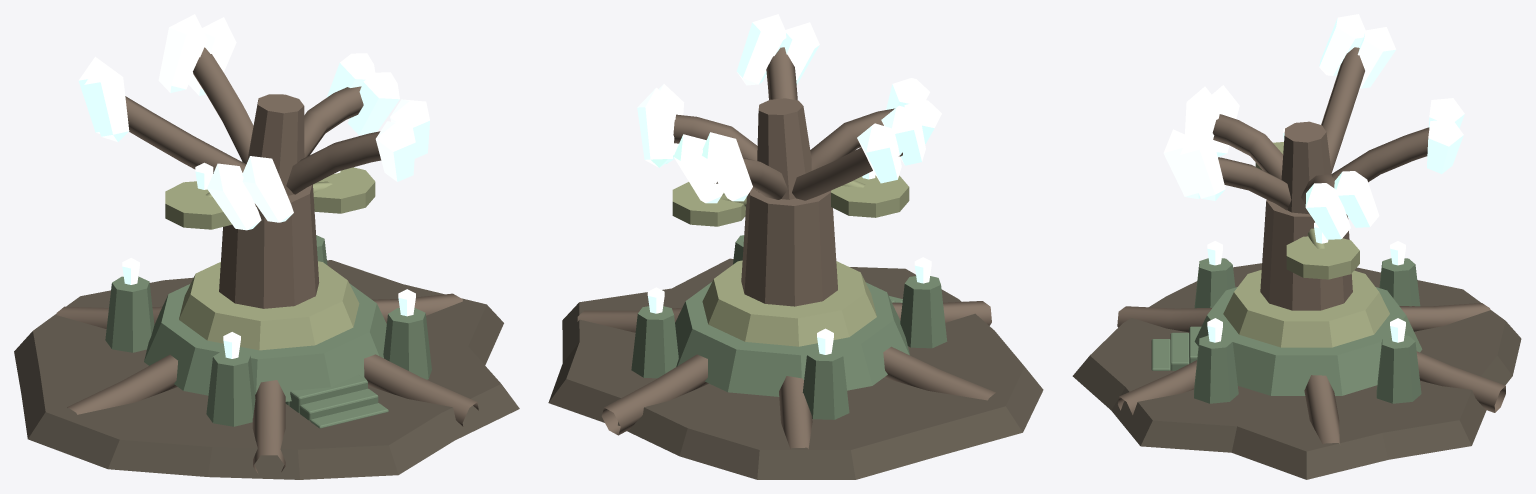
Rendered from ancient-jungle-lod1.glb.
3 renders of one model, left to right at view 1: azimuth 30°, elevation 25°; view 2: azimuth 150°, elevation 25°; view 3: azimuth 270°, elevation 25°, orthographic. The views are drawn at different scales.
Visible parts, largest first — view 1: STONE_TERRAIN_SOCKET, STONE_TEMPLE_TERRACE_LOWER, TRIM_TEMPLE_TERRACE_UPPER, ORGANIC_TRUNK_LOWER, ORGANIC_TRUNK_UPPER, FX_FOLIAGE_BRANCH_2, STONE_ROOT_SHRINE_2, STONE_ROOT_SHRINE_1, ORGANIC_BUTTRESS_ROOT_5, FX_FOLIAGE_BRANCH_4, FX_FOLIAGE_BRANCH_1, ORGANIC_BUTTRESS_ROOT_3 (+19 smaller); view 2: STONE_TERRAIN_SOCKET, STONE_TEMPLE_TERRACE_LOWER, ORGANIC_TRUNK_LOWER, TRIM_TEMPLE_TERRACE_UPPER, ORGANIC_TRUNK_UPPER, ORGANIC_BUTTRESS_ROOT_1, STONE_ROOT_SHRINE_2, STONE_ROOT_SHRINE_0, STONE_ROOT_SHRINE_1, ORGANIC_BUTTRESS_ROOT_3, STONE_CANOPY_PLATFORM_1, FX_FOLIAGE_BLADE_0_1 (+17 smaller); view 3: STONE_TERRAIN_SOCKET, STONE_TEMPLE_TERRACE_LOWER, TRIM_TEMPLE_TERRACE_UPPER, ORGANIC_TRUNK_LOWER, ORGANIC_TRUNK_UPPER, STONE_CANOPY_PLATFORM_0, STONE_ROOT_SHRINE_0, STONE_ROOT_SHRINE_3, FX_FOLIAGE_BRANCH_2, FX_FOLIAGE_BRANCH_1, ORGANIC_BUTTRESS_ROOT_1, FX_FOLIAGE_BRANCH_3 (+19 smaller).
Boxes of the visible parts, x1,y1,x2,y2 form: STONE_TERRAIN_SOCKET: (14, 260, 519, 479); STONE_TEMPLE_TERRACE_LOWER: (144, 283, 386, 401); TRIM_TEMPLE_TERRACE_UPPER: (179, 261, 359, 350); ORGANIC_TRUNK_LOWER: (219, 184, 319, 308); ORGANIC_TRUNK_UPPER: (247, 94, 304, 195); FX_FOLIAGE_BRANCH_2: (125, 96, 246, 173); STONE_ROOT_SHRINE_2: (206, 350, 255, 426); STONE_ROOT_SHRINE_1: (105, 276, 154, 352); ORGANIC_BUTTRESS_ROOT_5: (364, 354, 478, 426); FX_FOLIAGE_BRANCH_4: (286, 131, 381, 194); FX_FOLIAGE_BRANCH_1: (193, 47, 253, 163); ORGANIC_BUTTRESS_ROOT_3: (67, 354, 177, 414); STONE_TERRAIN_SOCKET: (548, 258, 1043, 479); STONE_TEMPLE_TERRACE_LOWER: (675, 282, 909, 396); ORGANIC_TRUNK_LOWER: (741, 188, 837, 306); TRIM_TEMPLE_TERRACE_UPPER: (702, 260, 876, 346); ORGANIC_TRUNK_UPPER: (757, 98, 811, 199); ORGANIC_BUTTRESS_ROOT_1: (601, 354, 708, 435); STONE_ROOT_SHRINE_2: (900, 276, 947, 348); STONE_ROOT_SHRINE_0: (631, 306, 678, 378); STONE_ROOT_SHRINE_1: (802, 347, 849, 419); ORGANIC_BUTTRESS_ROOT_3: (883, 346, 995, 400); STONE_CANOPY_PLATFORM_1: (831, 175, 909, 217); FX_FOLIAGE_BLADE_0_1: (637, 87, 676, 167); STONE_TERRAIN_SOCKET: (1072, 263, 1521, 479); STONE_TEMPLE_TERRACE_LOWER: (1194, 287, 1422, 395); TRIM_TEMPLE_TERRACE_UPPER: (1223, 270, 1389, 347); ORGANIC_TRUNK_LOWER: (1260, 200, 1352, 310); ORGANIC_TRUNK_UPPER: (1281, 121, 1331, 214); STONE_CANOPY_PLATFORM_0: (1286, 236, 1359, 279); STONE_ROOT_SHRINE_0: (1376, 335, 1421, 403); STONE_ROOT_SHRINE_3: (1194, 335, 1238, 403); FX_FOLIAGE_BRANCH_2: (1321, 47, 1364, 172); FX_FOLIAGE_BRANCH_1: (1332, 127, 1429, 182); ORGANIC_BUTTRESS_ROOT_1: (1416, 351, 1505, 412); FX_FOLIAGE_BRANCH_3: (1212, 114, 1283, 179).
Bounding box in the file's own units: 1.85 × 1.23 × 1.67.
